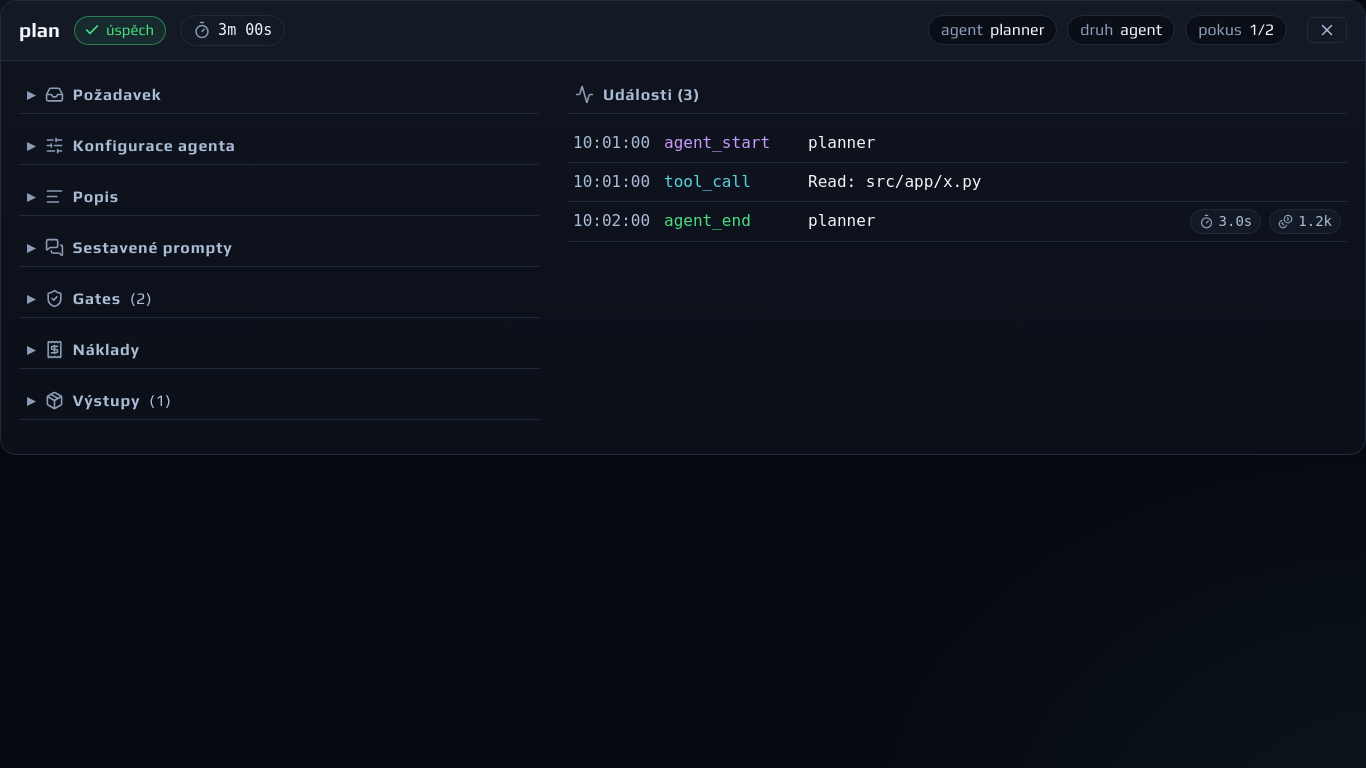
Test: PhaseDetail › reports prompts that failed to load
Click the button "▸ Sestavené prompty".
click(153, 247)  # box [19,230,539,266]
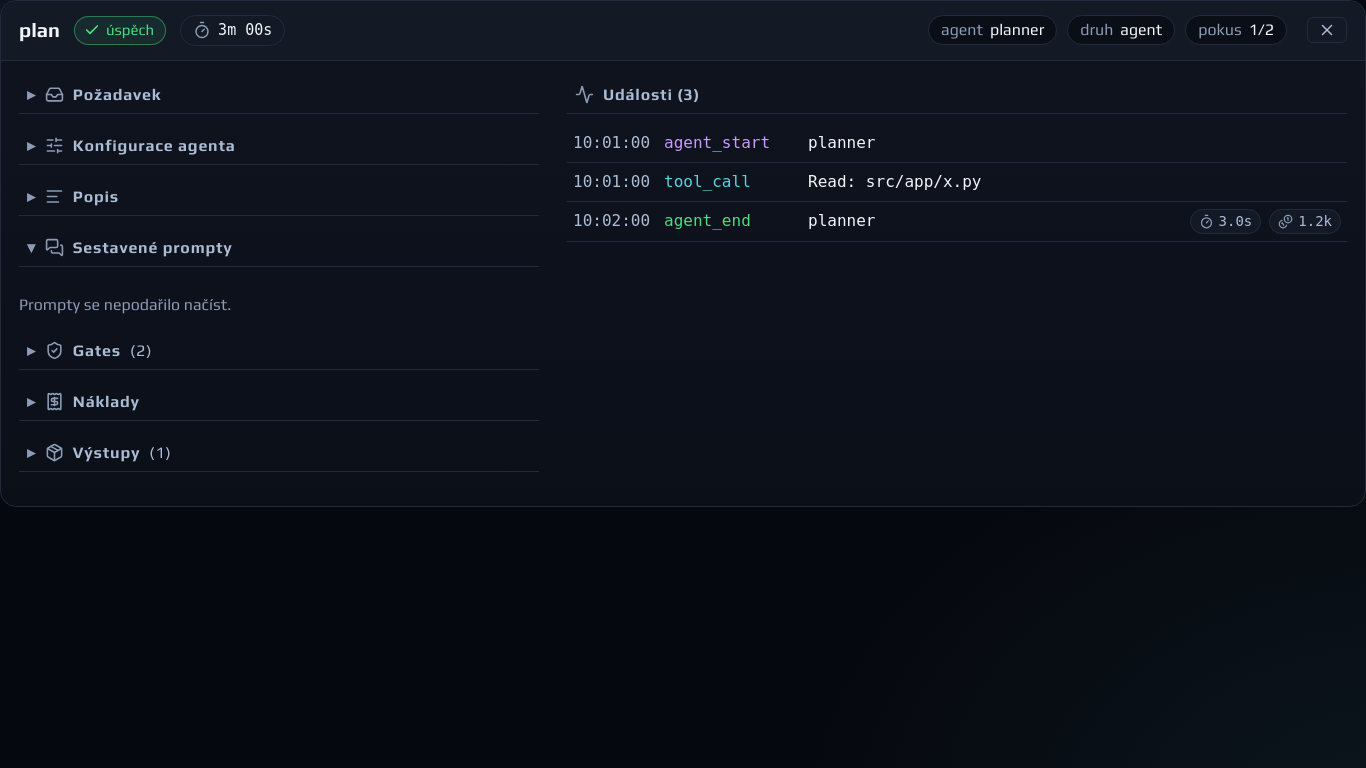
Expected: the text with test id "prompts-error" shows "nepodařilo", [19,294,231,314]
